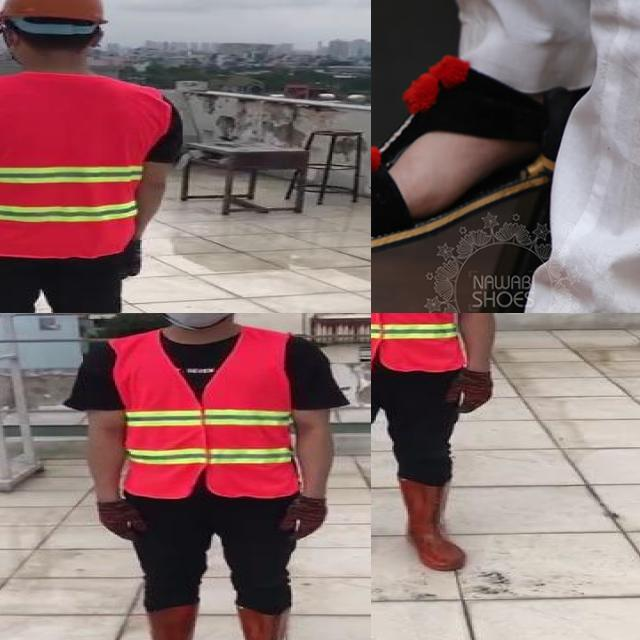boots: (392, 479, 467, 572), (234, 604, 303, 640), (130, 606, 200, 640)
face_mask: (152, 313, 250, 331)
hand_glove: (442, 370, 495, 413), (95, 500, 147, 542), (280, 498, 328, 539), (117, 243, 142, 279)
head_helmet: (0, 0, 114, 23)
person: (68, 313, 342, 640), (0, 0, 185, 313), (371, 313, 505, 577)
vest: (115, 328, 300, 498), (0, 73, 166, 257)
